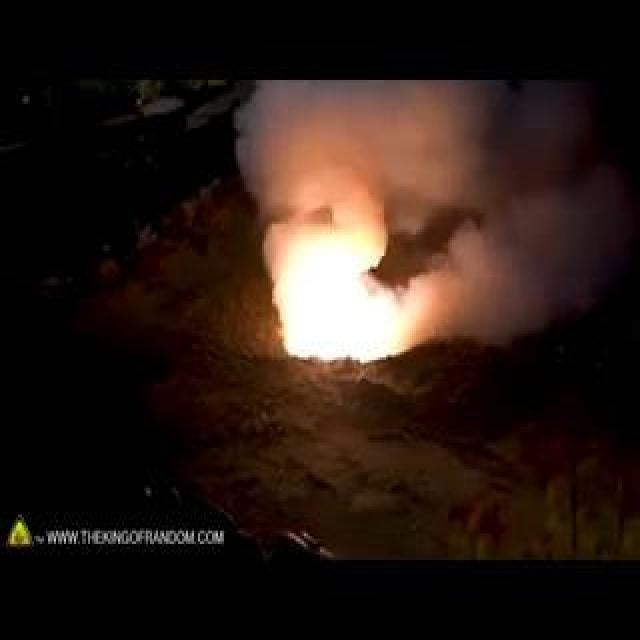Fire: (180, 174, 321, 296)
